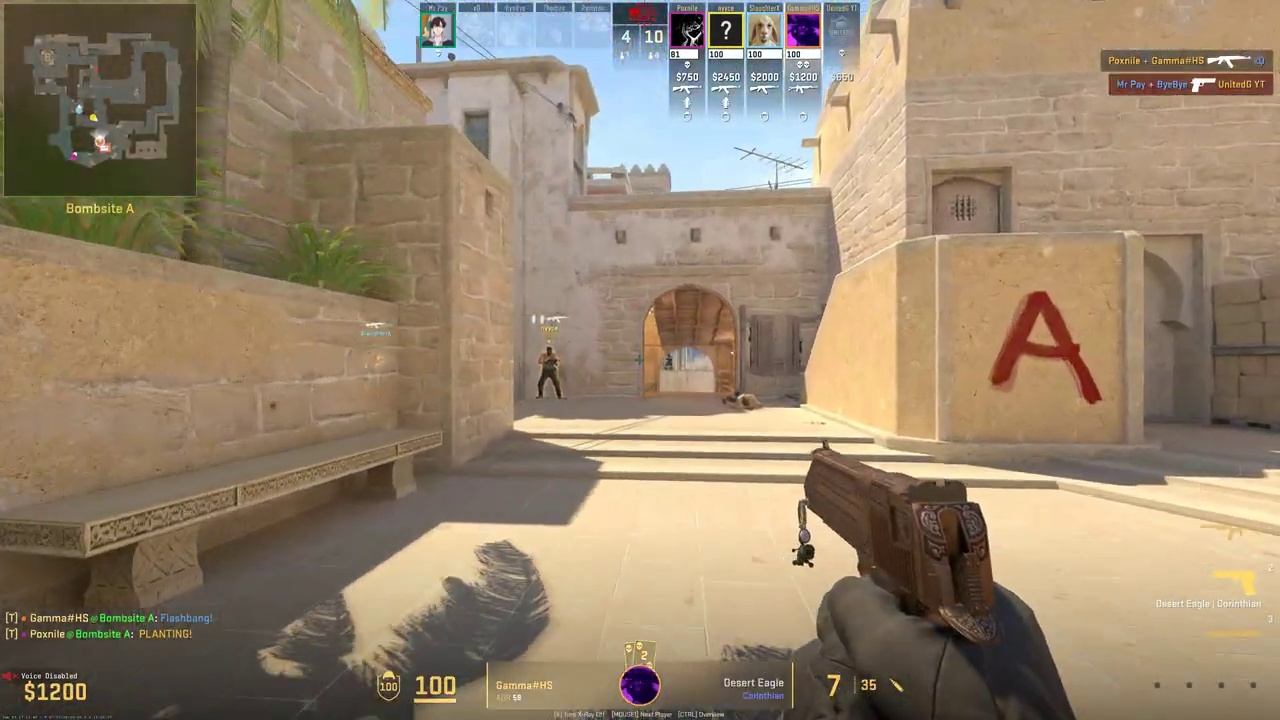CT: (665, 354, 672, 370)
Terrorist: (539, 346, 561, 400)
